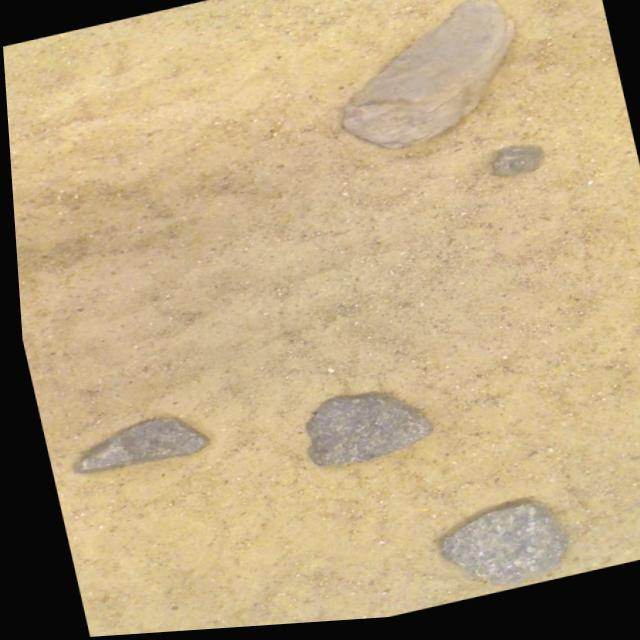rock: (341, 4, 513, 154), (434, 510, 559, 590), (301, 398, 426, 470), (68, 421, 200, 474), (491, 152, 540, 183)
